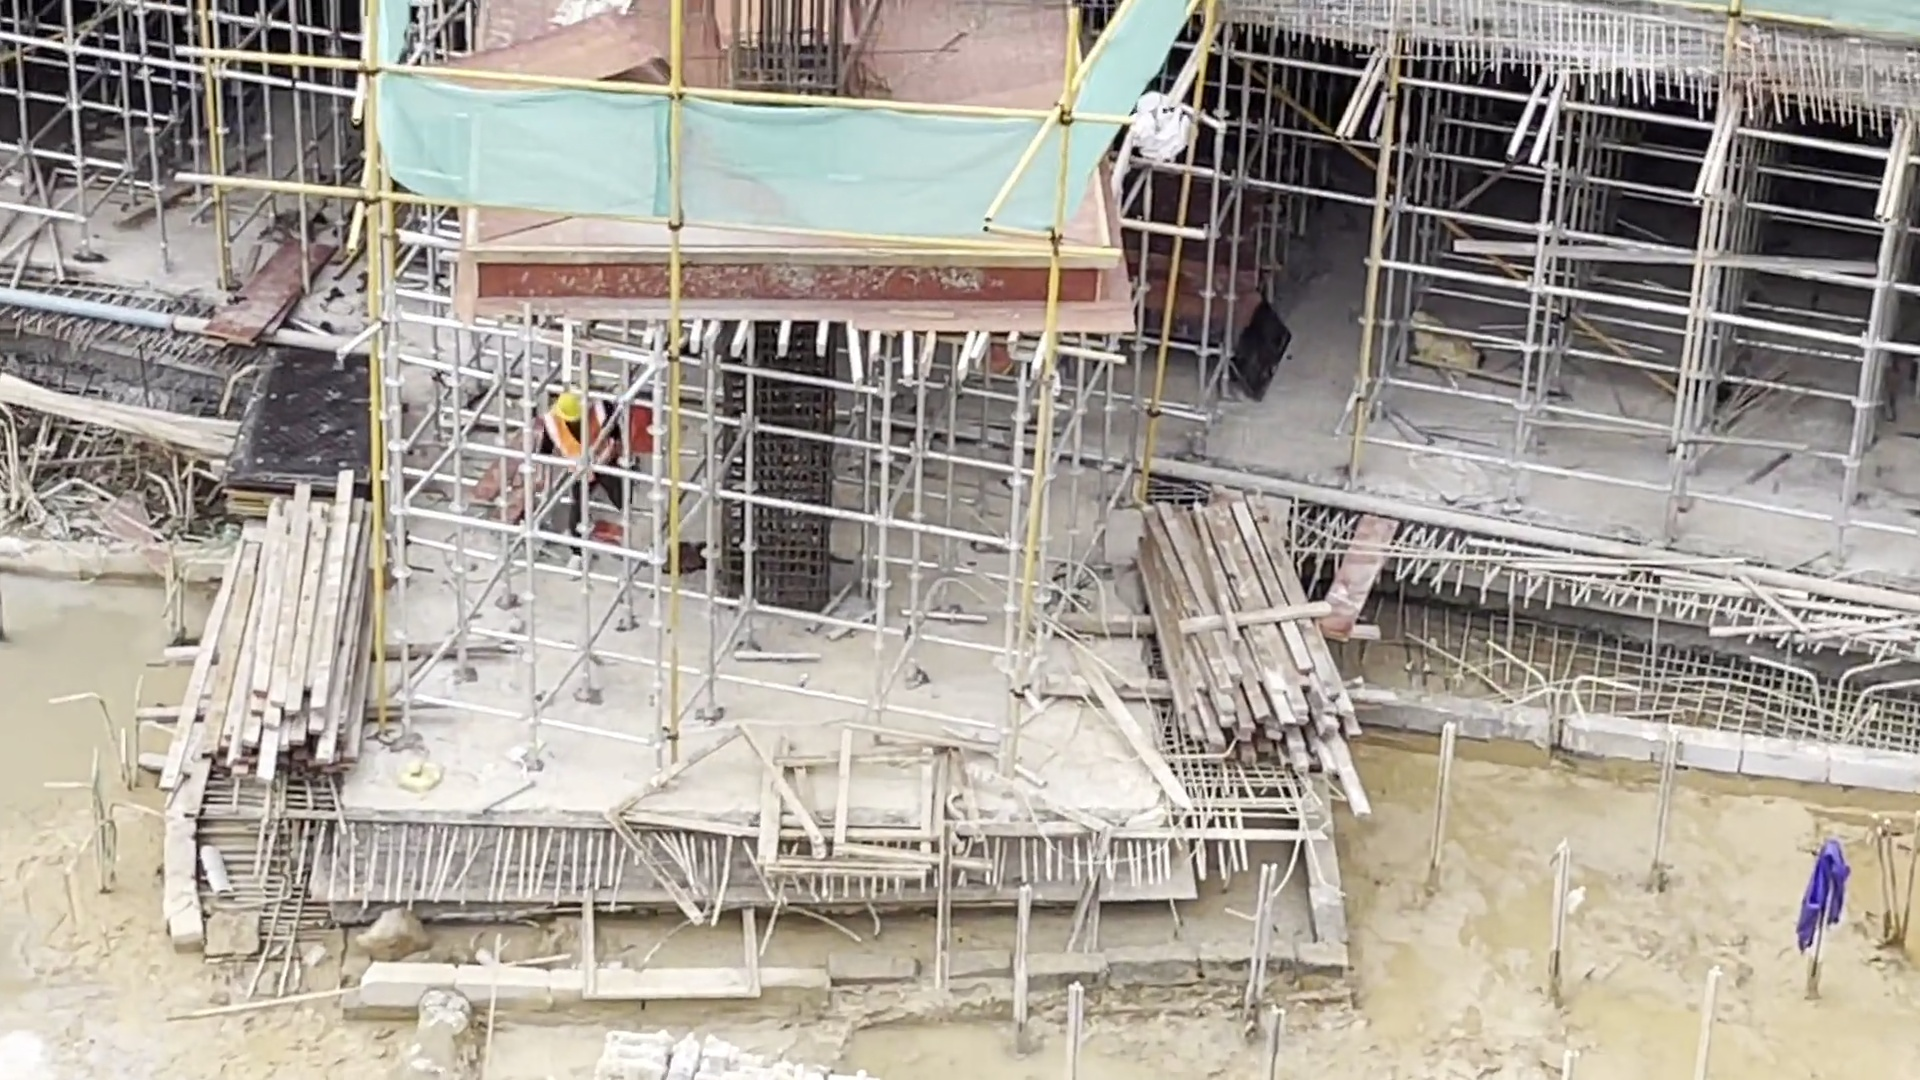board: (228, 341, 393, 519)
helmet: (556, 390, 580, 423)
person: (544, 385, 635, 541)
wood: (1129, 486, 1375, 823), (153, 474, 380, 783)
